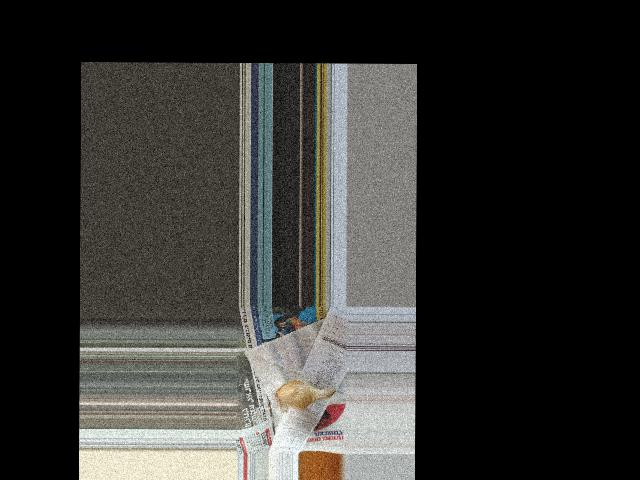onion: (275, 376, 318, 407)
